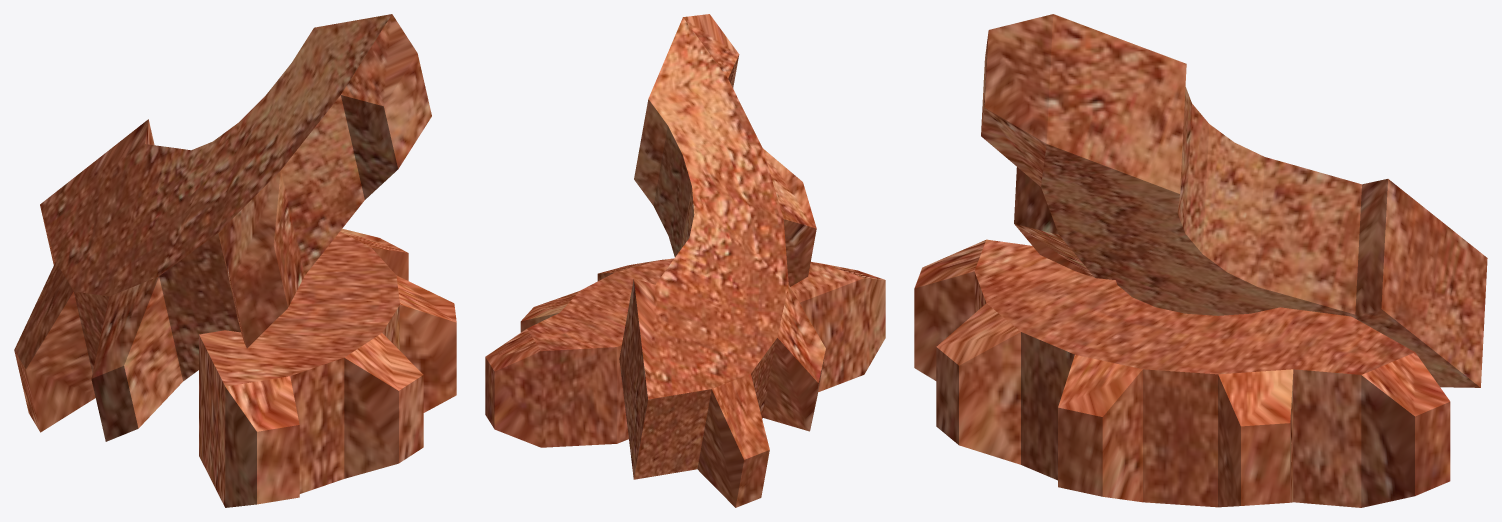
The model's file is Small_Cog_Broken_3.fbx.
3 renders of one model, left to right at view 1: azimuth 30°, elevation 25°; view 2: azimuth 150°, elevation 25°; view 3: azimuth 270°, elevation 25°, orthographic. The views are drawn at different scales.
Parts seen in each view (by area): view 1: Small_Cog_Broken; view 2: Small_Cog_Broken; view 3: Small_Cog_Broken.
Boxes of the visible parts, left/top/right/bottom form: Small_Cog_Broken: left=14, top=14, right=456, bottom=507; Small_Cog_Broken: left=485, top=14, right=885, bottom=507; Small_Cog_Broken: left=914, top=14, right=1487, bottom=507.
Bounding box in the file's own units: 84.71 × 109 × 113.
